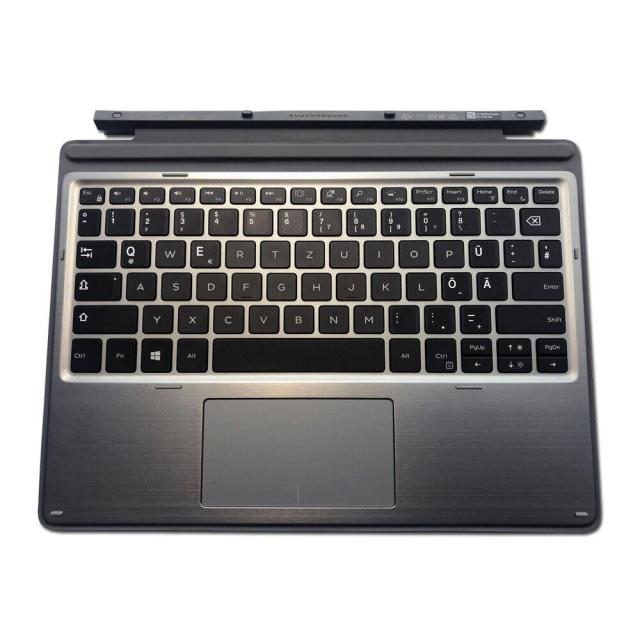0: (413, 206, 445, 234)
1: (104, 206, 133, 234)
2: (137, 206, 168, 234)
3: (172, 206, 202, 234)
4: (207, 206, 237, 234)
5: (241, 206, 272, 234)
6: (276, 206, 306, 234)
7: (311, 206, 341, 234)
8: (345, 206, 375, 234)
9: (379, 206, 409, 234)
a: (124, 270, 156, 299)
accent: (483, 205, 514, 233)
ae: (475, 269, 506, 299)
alt-left: (175, 336, 207, 372)
altgr-right: (387, 336, 420, 371)
b: (282, 303, 314, 332)
c: (211, 303, 243, 332)
caret: (76, 207, 100, 235)
comma: (387, 303, 419, 332)
d: (194, 270, 226, 299)
del: (518, 206, 559, 235)
e: (188, 238, 220, 267)
enter: (511, 269, 564, 299)
f: (230, 270, 261, 299)
g: (264, 270, 296, 299)
h: (300, 270, 330, 299)
hash: (537, 238, 561, 267)
i: (362, 238, 393, 267)
j: (334, 270, 365, 299)
k: (369, 270, 401, 299)
keyboard: (57, 168, 580, 383)
l: (404, 270, 435, 299)
m: (352, 302, 384, 332)
minus: (458, 303, 490, 332)
n: (316, 303, 348, 332)
o: (397, 238, 428, 267)
oe: (439, 269, 470, 299)
p: (432, 238, 463, 267)
plus: (502, 238, 533, 267)
point: (422, 303, 454, 332)
q: (118, 237, 150, 267)
r: (223, 238, 255, 266)
s: (159, 270, 191, 299)
shift-left: (70, 302, 137, 333)
shift-lock: (72, 270, 120, 300)
shift-right: (495, 301, 566, 333)
space: (211, 336, 384, 372)
ss: (449, 206, 479, 234)
strg-left: (68, 336, 100, 372)
strg-right: (423, 336, 456, 371)
t: (259, 238, 289, 266)
tab: (74, 237, 115, 267)
u: (327, 238, 359, 267)
ue: (466, 237, 498, 267)
v: (247, 303, 279, 332)
w: (154, 238, 184, 267)
x: (176, 303, 208, 332)
y: (140, 303, 172, 332)
z: (292, 238, 324, 267)
